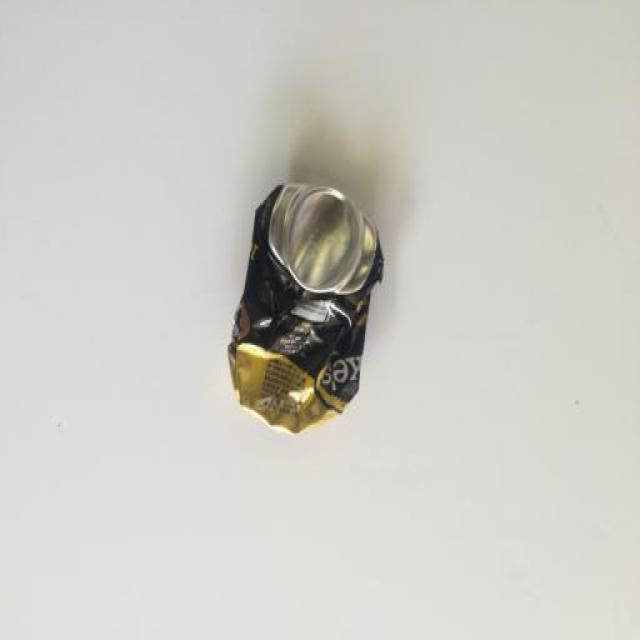metel: (235, 186, 366, 426)
